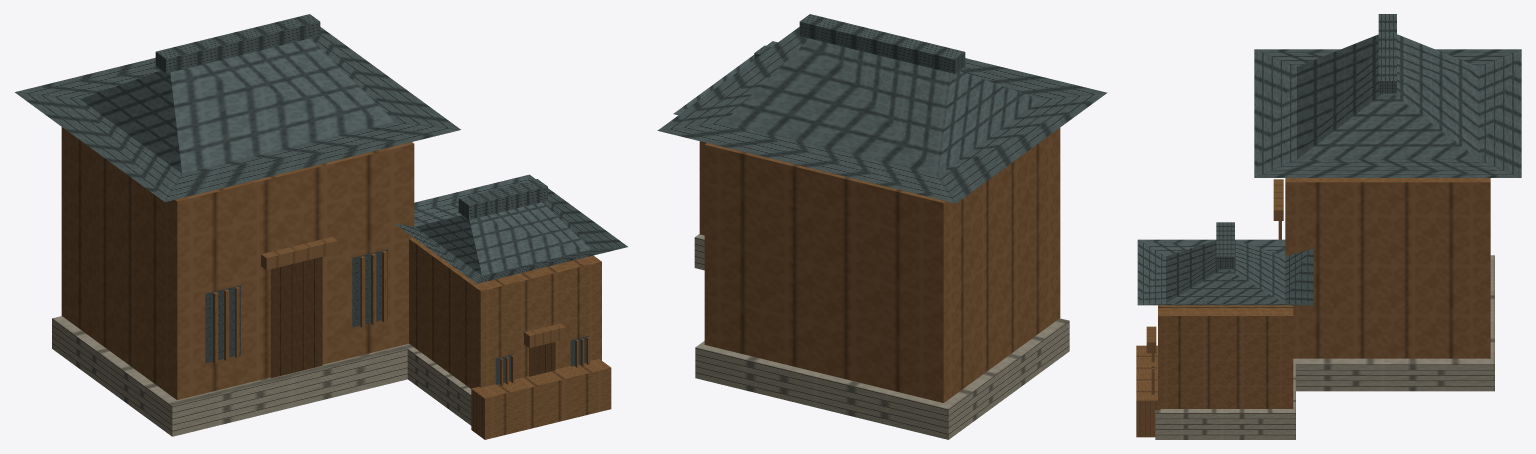
The model's file is domestic-STABLE-2-lod1.glb.
3 renders of one model, left to right at view 1: azimuth 30°, elevation 25°; view 2: azimuth 150°, elevation 25°; view 3: azimuth 270°, elevation 25°, orthographic. The views are drawn at different scales.
Size of the model in its own units: 0.755 by 0.59 by 0.712.
Materials: 1 (1 with a texture image).
